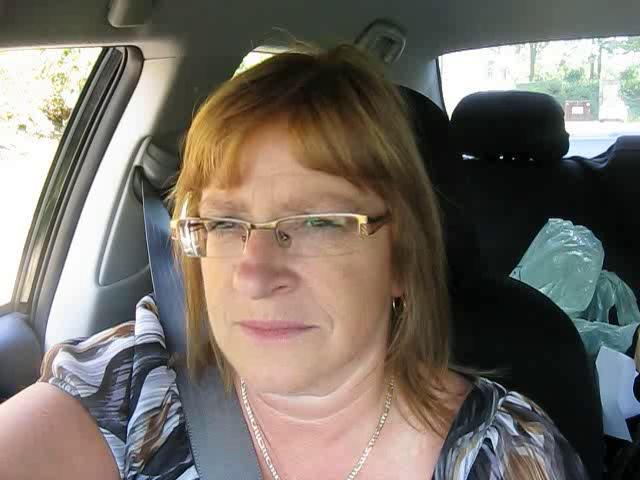close_eyeL: (195, 206, 254, 249)
close_eyeR: (274, 204, 367, 256)
no_yawn: (217, 305, 330, 359)
